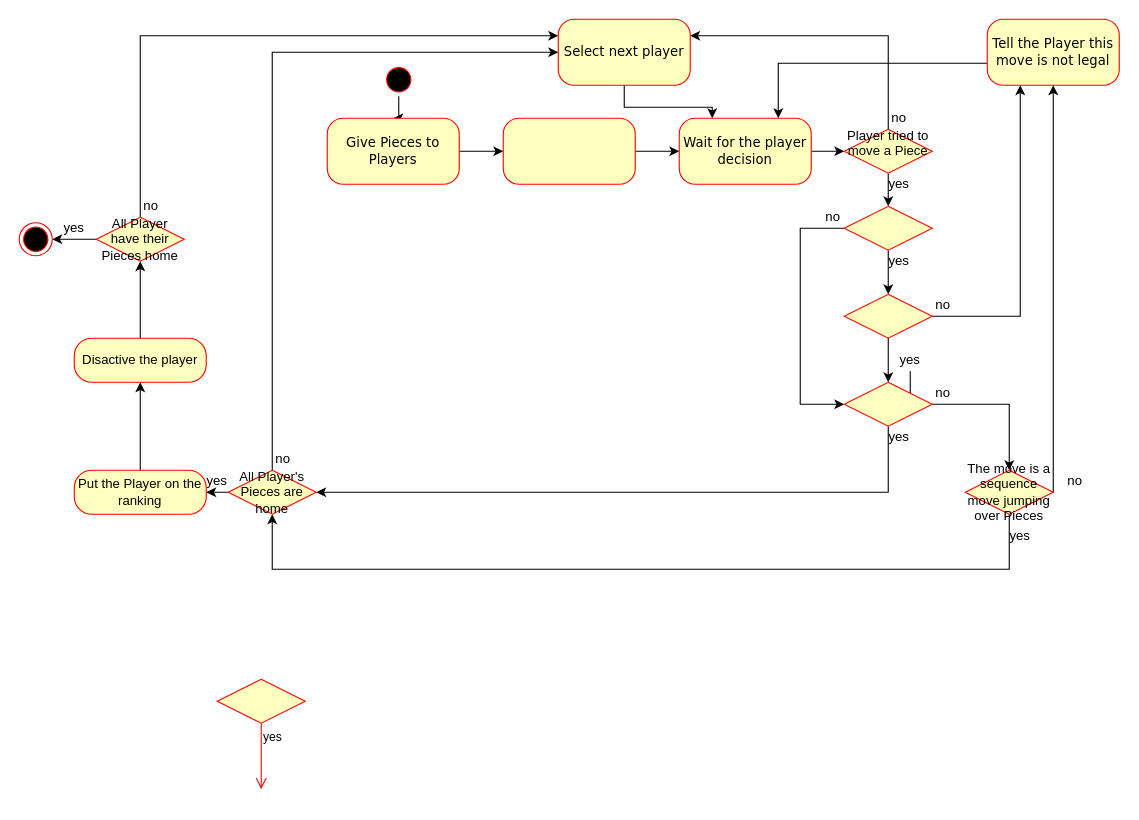
Image size: 1139x820. Some labels were removed from this diagram. Each missing label, with the box of its shape:
Choose a random player to start the game: (502, 117, 635, 184)
Condition: (216, 678, 305, 723)
Piece is Home: (843, 205, 932, 250)
The move is to an adjecent empty field: (843, 381, 932, 426)
The move is to another Field in home: (843, 293, 932, 338)
